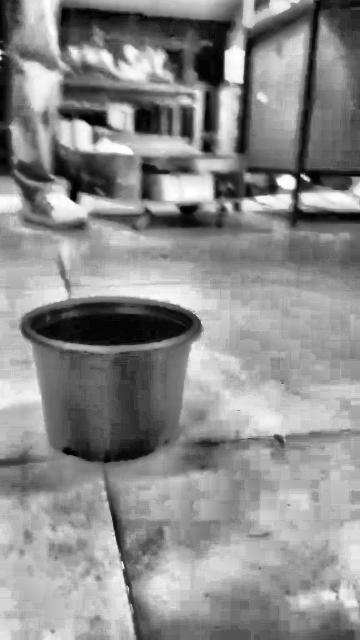pot: (22, 299, 200, 463)
